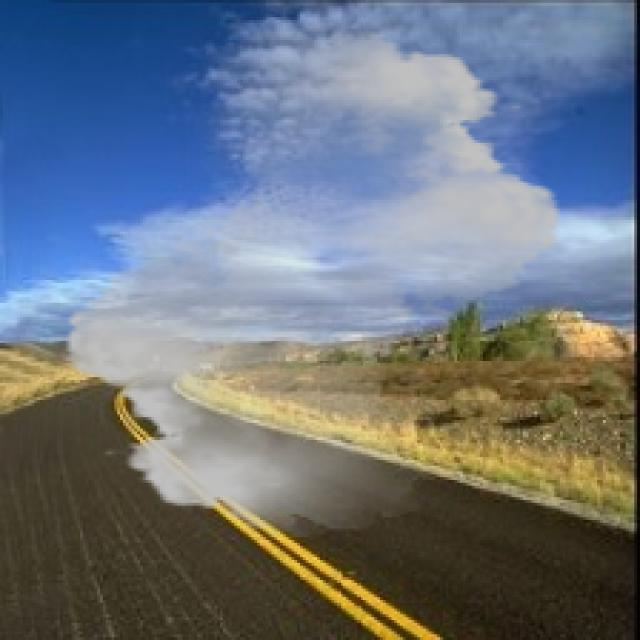Smoke: (49, 22, 578, 538)
